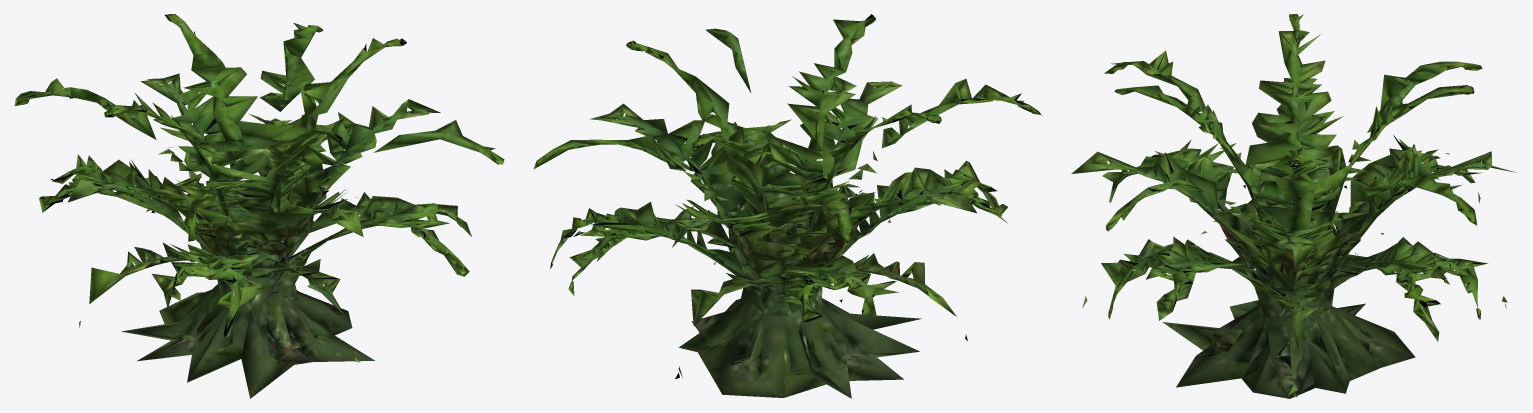
The model's file is plant_royalfern.glb.
3 views of the same model, side by side, from view 1: azimuth 30°, elevation 25°; view 2: azimuth 150°, elevation 25°; view 3: azimuth 270°, elevation 25° (orthographic). The views are drawn at different scales.
Visible parts, largest first — view 1: lo; view 2: lo; view 3: lo.
Part boxes in pixels (<box>): lo: <box>14,14,504,398</box>; lo: <box>533,14,1042,398</box>; lo: <box>1071,14,1516,398</box>.
Bounding box in the file's own units: 1.7 × 1.15 × 1.71.
1 material, 1 textured.
